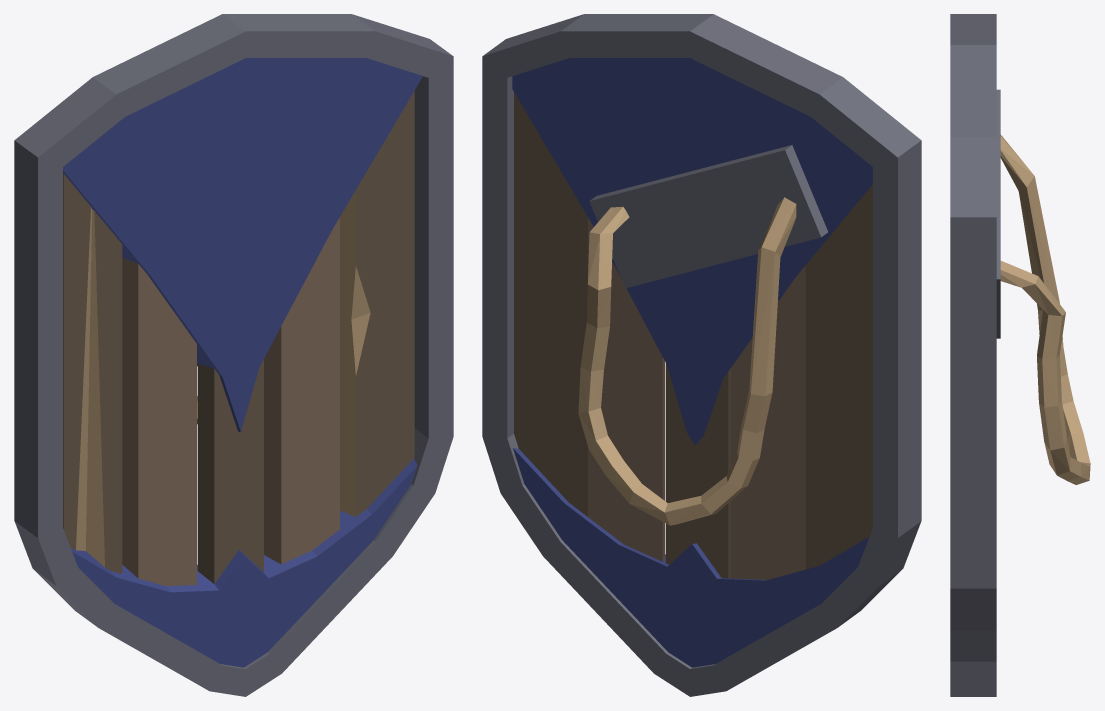
The model's file is shield_shield_14.glb.
3 renders of one model, left to right at view 1: azimuth 30°, elevation 25°; view 2: azimuth 150°, elevation 25°; view 3: azimuth 270°, elevation 25°, orthographic. The views are drawn at different scales.
Visible parts, largest first — view 1: shield_14; view 2: shield_14; view 3: shield_14.
Boxes of the visible parts, box(x1,y1,x2,y2) form: shield_14: box(14, 14, 453, 696); shield_14: box(482, 14, 921, 696); shield_14: box(950, 14, 1090, 696).
Bounding box in the file's own units: 60.21 × 92.17 × 18.04.
1 material, 1 textured.
